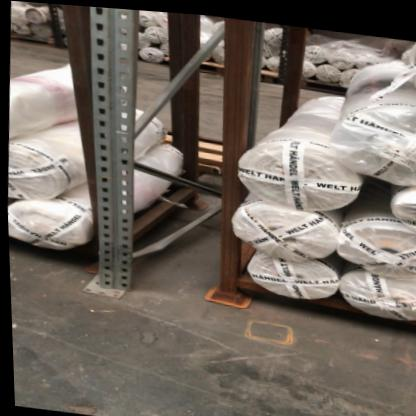vertical_damage: (81, 265, 152, 304)
